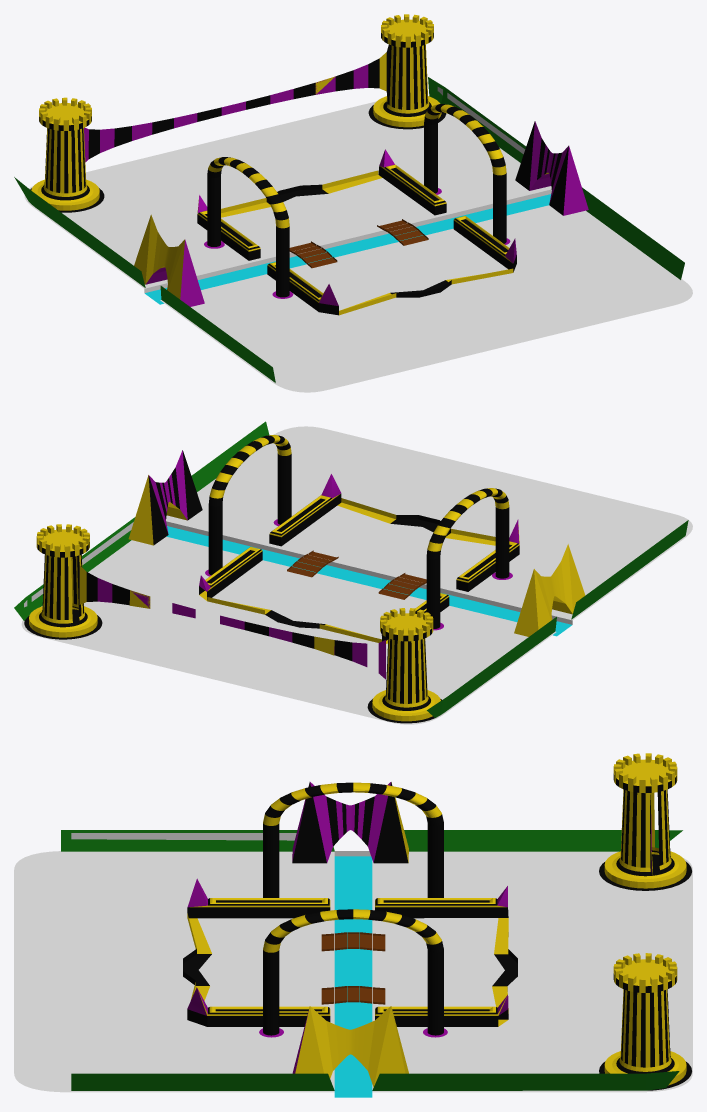
File: ground.glb
3 views of the same model, one above another, from view 1: azimuth 30°, elevation 25°; view 2: azimuth 150°, elevation 25°; view 3: azimuth 270°, elevation 25° (orthographic). The views are drawn at different scales.
Parts seen in each view (by area): view 1: Plane, assets, border, river, bradg, bradg1; view 2: Plane, assets, border, river, bradg, bradg1; view 3: Plane, assets, border, river, bradg, bradg1.
Part boxes in pixels (bbox=[...]): Plane: bbox=[24, 87, 692, 392]; assets: bbox=[30, 14, 588, 315]; border: bbox=[14, 77, 684, 382]; river: bbox=[145, 194, 551, 304]; bradg: bbox=[289, 241, 337, 268]; bradg1: bbox=[377, 219, 428, 245]; Plane: bbox=[21, 426, 692, 724]; assets: bbox=[24, 435, 585, 723]; border: bbox=[14, 421, 688, 717]; river: bbox=[166, 526, 571, 636]; bradg: bbox=[378, 573, 426, 599]; bradg1: bbox=[287, 550, 338, 577]; Plane: bbox=[14, 833, 692, 1092]; assets: bbox=[183, 753, 691, 1090]; border: bbox=[61, 830, 682, 1090]; river: bbox=[334, 856, 372, 1097]; bradg: bbox=[321, 932, 385, 951]; bradg1: bbox=[321, 986, 385, 1004].
Bounding box in the file's own units: 70.02 × 17.25 × 82.51.
